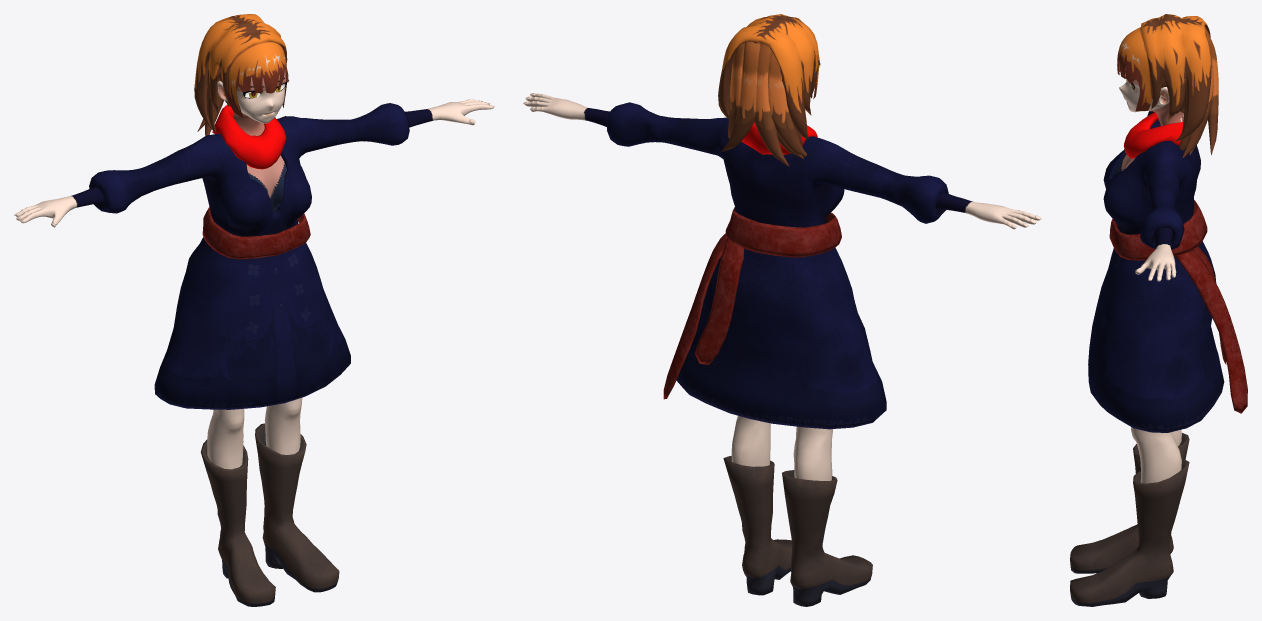
The model's file is women.fbx.
3 views of the same model, side by side, from view 1: azimuth 30°, elevation 25°; view 2: azimuth 150°, elevation 25°; view 3: azimuth 270°, elevation 25° (orthographic). The views are drawn at different scales.
Parts seen in each view (by area): view 1: clothes004, foots002, hair179, leg, hand, hand2, hair178, belt, band004; view 2: clothes004, foots002, hair179, leg, belt, hand2, band005, band, hair156, hair186, hair188, hair184; view 3: clothes004, foots002, hair179, band, leg, belt, hair178, band004, hand, hand2, hair156, hair184 (+1 smaller).
Boxes of the visible parts, x1,y1,x2,y2 form: clothes004: (89,103,409,409); foots002: (201,423,339,606); hair179: (194,14,287,129); leg: (207,397,302,469); hand: (217,69,287,212); hand2: (14,99,494,227); hair178: (228,41,288,117); belt: (202,207,310,259); band004: (212,104,286,169); clothes004: (606,102,948,429); foots002: (723,456,872,606); hair179: (718,14,818,138); leg: (731,415,833,480); belt: (725,207,841,257); hand2: (523,93,1041,229); band005: (695,238,744,364); band: (663,234,726,399); hair156: (721,41,760,151); hair186: (754,44,789,166); hair188: (768,54,806,156); hair184: (728,43,744,138); clothes004: (1088,111,1224,432); foots002: (1070,433,1189,606); hair179: (1140,14,1211,141); band: (1176,250,1247,413); leg: (1131,427,1181,483); belt: (1109,200,1207,260); hair178: (1117,27,1152,111); band004: (1124,112,1185,158); hand: (1113,67,1183,175); hand2: (1135,227,1176,281); hair156: (1205,33,1218,154); hair184: (1182,57,1213,157).
Bounding box in the file's own units: 368 × 402 × 115.
